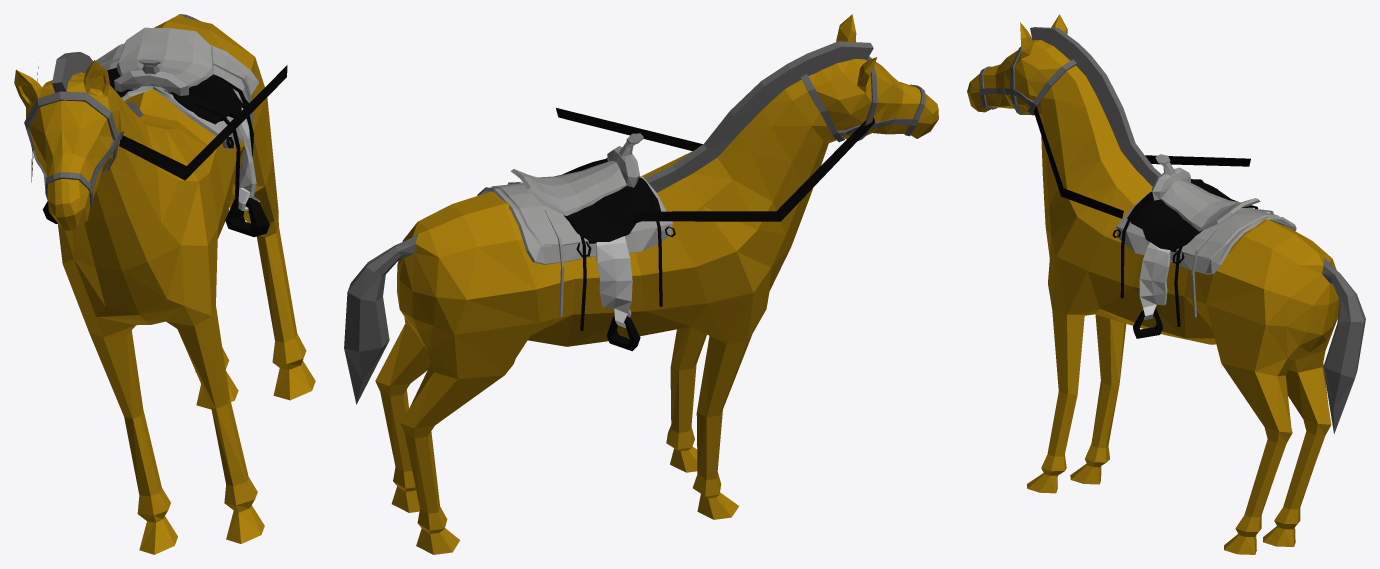
Rendered from HorseRiding.gltf.
The picture shows the model from 3 angles, left to right: view 1: azimuth 30°, elevation 25°; view 2: azimuth 150°, elevation 25°; view 3: azimuth 270°, elevation 25°; orthographic projection. The views are drawn at different scales.
Visible parts, largest first — view 1: Mesh2 Component_3_1 Model, Mesh1 Component_3_1 Model, Mesh5 Component_3_1 Model, Mesh24 Component_3_1 Model, Mesh3 Component_3_1 Model, Mesh17 Component_3_1 Model, Mesh10 Component_3_1 Model, Mesh6 Component_3_1 Model, Mesh19 Component_3_1 Model, Mesh16 Component_3_1 Model, Mesh21 Component_3_1 Model; view 2: Mesh2 Component_3_1 Model, Mesh6 Component_3_1 Model, Mesh5 Component_3_1 Model, Mesh1 Component_3_1 Model, Mesh4 Component_3_1 Model, Mesh25 Component_3_1 Model, Mesh8 Component_3_1 Model, Mesh3 Component_3_1 Model, Mesh24 Component_3_1 Model; view 3: Mesh2 Component_3_1 Model, Mesh5 Component_3_1 Model, Mesh6 Component_3_1 Model, Mesh1 Component_3_1 Model, Mesh17 Component_3_1 Model, Mesh19 Component_3_1 Model, Mesh3 Component_3_1 Model, Mesh24 Component_3_1 Model, Mesh25 Component_3_1 Model, Mesh10 Component_3_1 Model, Mesh16 Component_3_1 Model.
Boxes of the visible parts, box(x1,y1,x2,y2) form: Mesh2 Component_3_1 Model: box(14, 14, 315, 554); Mesh1 Component_3_1 Model: box(116, 27, 213, 87); Mesh5 Component_3_1 Model: box(96, 43, 258, 149); Mesh24 Component_3_1 Model: box(119, 65, 287, 180); Mesh3 Component_3_1 Model: box(24, 68, 123, 208); Mesh17 Component_3_1 Model: box(169, 74, 241, 124); Mesh10 Component_3_1 Model: box(114, 69, 188, 95); Mesh6 Component_3_1 Model: box(52, 52, 143, 117); Mesh19 Component_3_1 Model: box(238, 108, 259, 210); Mesh16 Component_3_1 Model: box(225, 197, 269, 236); Mesh21 Component_3_1 Model: box(194, 102, 240, 216); Mesh2 Component_3_1 Model: box(344, 14, 938, 554); Mesh6 Component_3_1 Model: box(644, 41, 873, 192); Mesh5 Component_3_1 Model: box(477, 176, 672, 264); Mesh1 Component_3_1 Model: box(510, 161, 626, 215); Mesh4 Component_3_1 Model: box(564, 177, 660, 243); Mesh25 Component_3_1 Model: box(632, 117, 874, 221); Mesh8 Component_3_1 Model: box(596, 236, 632, 328); Mesh3 Component_3_1 Model: box(800, 56, 926, 142); Mesh24 Component_3_1 Model: box(556, 108, 702, 150); Mesh2 Component_3_1 Model: box(967, 14, 1365, 554); Mesh5 Component_3_1 Model: box(1116, 191, 1296, 274); Mesh6 Component_3_1 Model: box(1030, 27, 1161, 186); Mesh1 Component_3_1 Model: box(1160, 180, 1260, 231); Mesh17 Component_3_1 Model: box(1127, 191, 1202, 252); Mesh19 Component_3_1 Model: box(1139, 242, 1170, 319); Mesh3 Component_3_1 Model: box(979, 47, 1076, 115); Mesh24 Component_3_1 Model: box(1033, 106, 1123, 218); Mesh25 Component_3_1 Model: box(1145, 155, 1250, 166); Mesh10 Component_3_1 Model: box(1152, 167, 1190, 200); Mesh16 Component_3_1 Model: box(1133, 308, 1162, 338).
Size of the model in its own units: 683 by 828 by 711.
